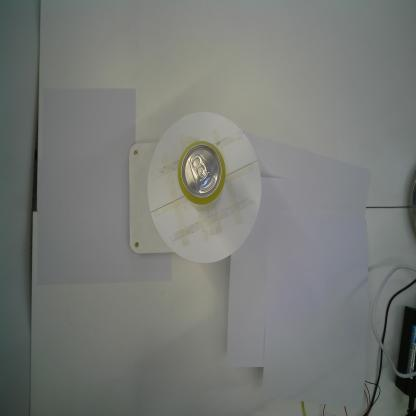Alcohol: (177, 139, 227, 214)
